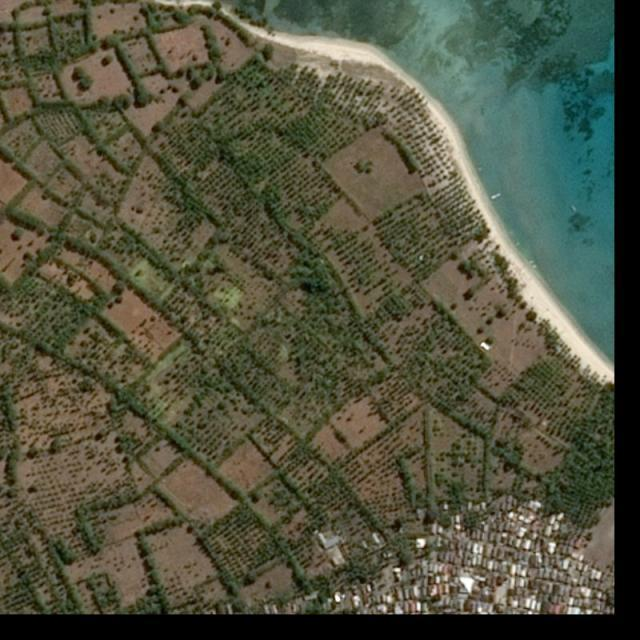ship: (490, 193, 501, 200), (570, 206, 577, 213), (514, 241, 520, 247), (477, 166, 483, 172), (508, 231, 513, 237), (533, 264, 538, 270), (530, 260, 535, 265)
